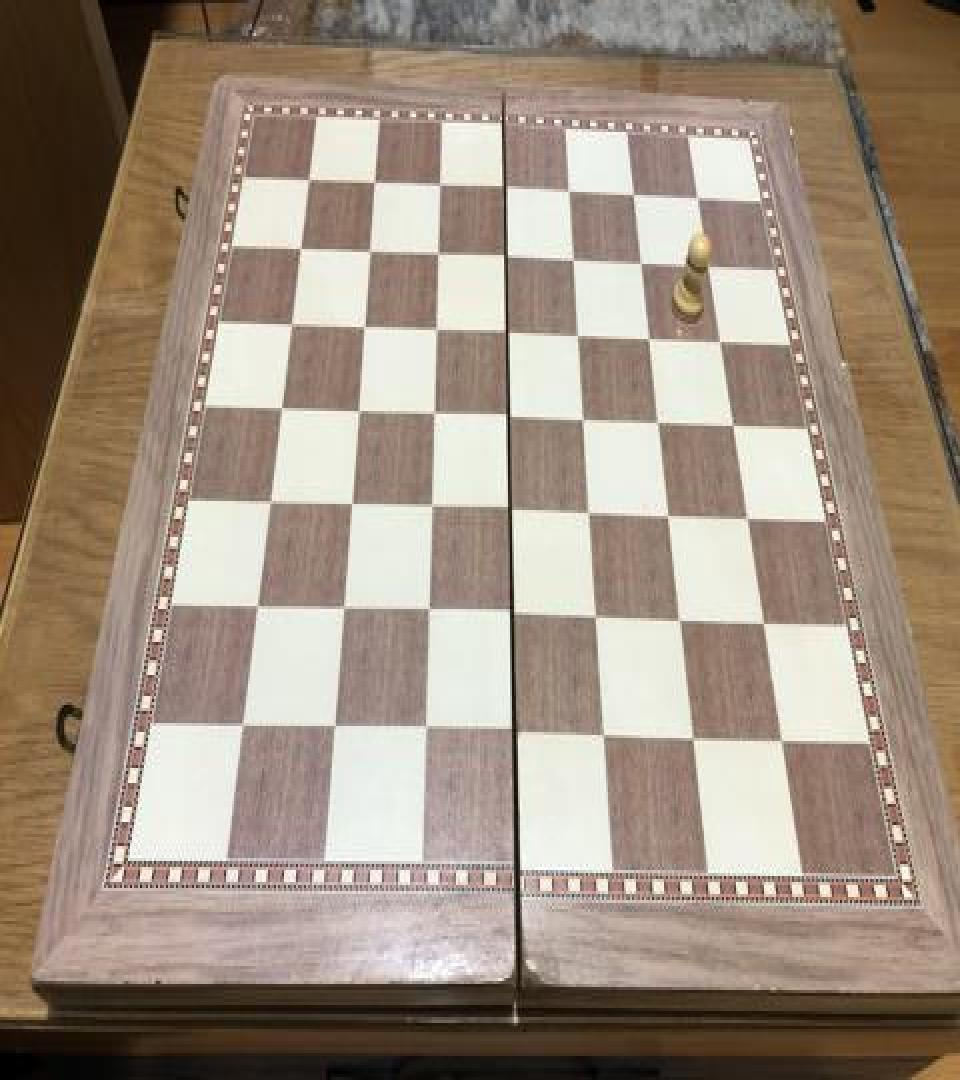xcorner: (670, 601, 694, 638), (593, 718, 617, 755), (320, 712, 344, 749), (689, 174, 713, 210), (624, 171, 648, 207), (559, 170, 583, 206), (494, 166, 518, 202), (429, 165, 453, 201), (363, 162, 387, 198), (297, 159, 321, 195), (700, 243, 724, 279), (632, 242, 656, 278), (563, 238, 587, 274), (495, 236, 519, 272), (427, 234, 451, 270), (358, 231, 382, 267), (289, 228, 313, 264), (711, 320, 735, 356), (640, 316, 664, 352), (568, 315, 592, 351), (496, 312, 520, 348), (424, 310, 448, 346), (352, 308, 376, 344), (279, 304, 303, 340), (724, 404, 748, 440), (649, 402, 673, 438), (573, 399, 597, 435), (498, 398, 522, 434), (421, 394, 445, 430), (345, 392, 369, 428), (269, 390, 293, 426), (738, 498, 762, 534), (659, 496, 683, 532), (579, 494, 603, 530), (499, 490, 523, 526), (419, 489, 443, 525), (338, 486, 362, 522), (257, 484, 281, 520), (755, 604, 779, 640), (586, 600, 610, 636), (501, 597, 525, 633), (415, 594, 439, 630), (330, 592, 354, 628), (244, 590, 268, 626), (773, 723, 797, 759), (683, 722, 707, 758), (502, 717, 526, 753), (411, 714, 435, 750), (229, 710, 253, 746)
